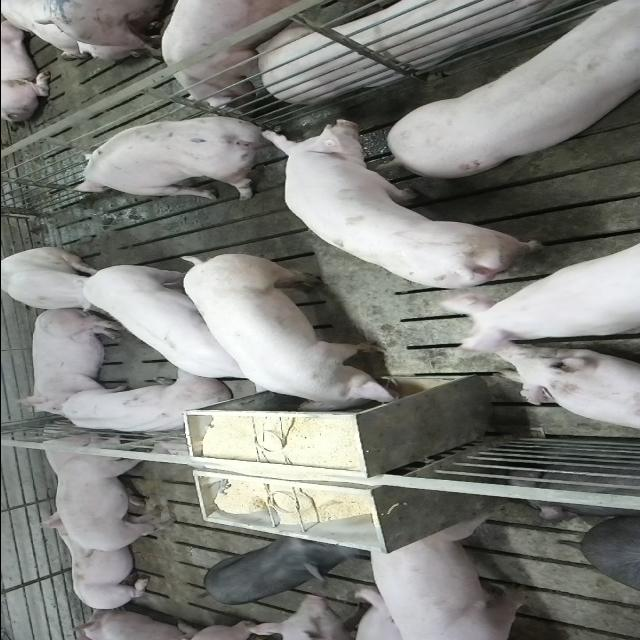Feeding: (175, 256, 406, 420)
Lateral_lying: (235, 0, 591, 102), (15, 306, 128, 416)
Sitting: (1, 247, 114, 316)
Standing: (268, 122, 558, 294), (385, 0, 640, 175), (77, 260, 277, 389), (368, 506, 542, 638), (71, 115, 281, 203), (50, 426, 182, 554), (161, 0, 299, 106), (199, 532, 363, 604)
Sternal_lying: (494, 348, 640, 433), (31, 514, 154, 610), (58, 374, 232, 436)
